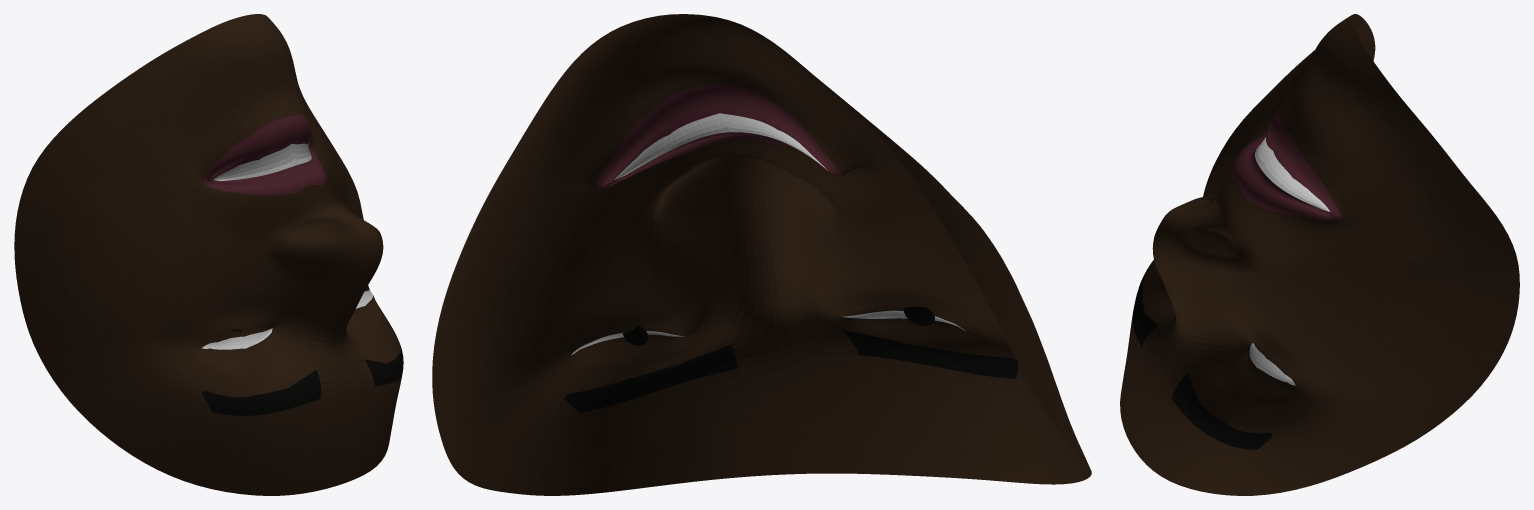
The model's file is frame_00216.obj.
The picture shows the model from 3 angles, left to right: view 1: azimuth 30°, elevation 25°; view 2: azimuth 150°, elevation 25°; view 3: azimuth 270°, elevation 25°; orthographic projection. The views are drawn at different scales.
Parts seen in each view (by area): view 1: face_mesh_subdivided; view 2: face_mesh_subdivided; view 3: face_mesh_subdivided.
Boxes of the visible parts, x1,y1,x2,y2 form: face_mesh_subdivided: [14, 14, 403, 495]; face_mesh_subdivided: [432, 14, 1091, 495]; face_mesh_subdivided: [1120, 14, 1519, 495].
Bounding box in the file's own units: 0.4759 × 0.5062 × 0.4407.
